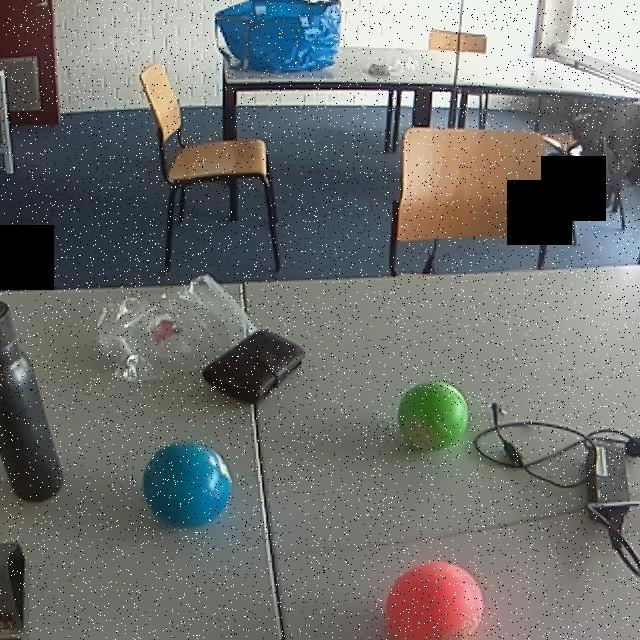ball: (142, 438, 236, 530), (382, 559, 488, 640), (395, 379, 473, 455)
